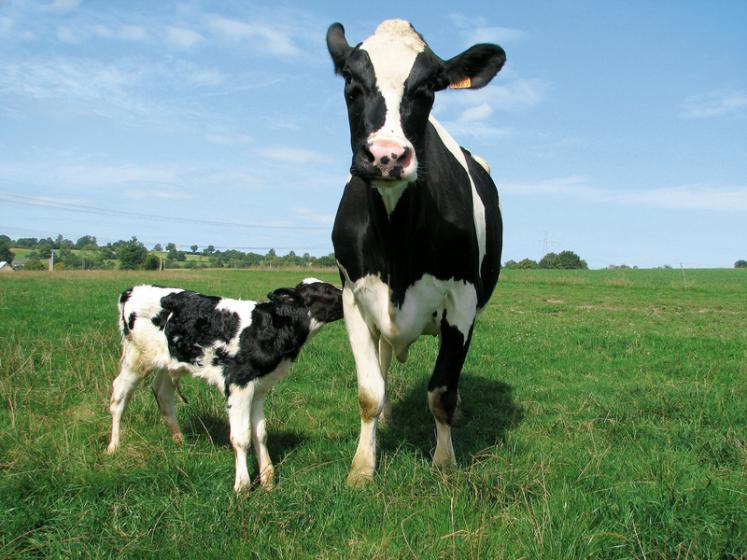cow: (320, 15, 511, 192), (268, 277, 343, 327)
